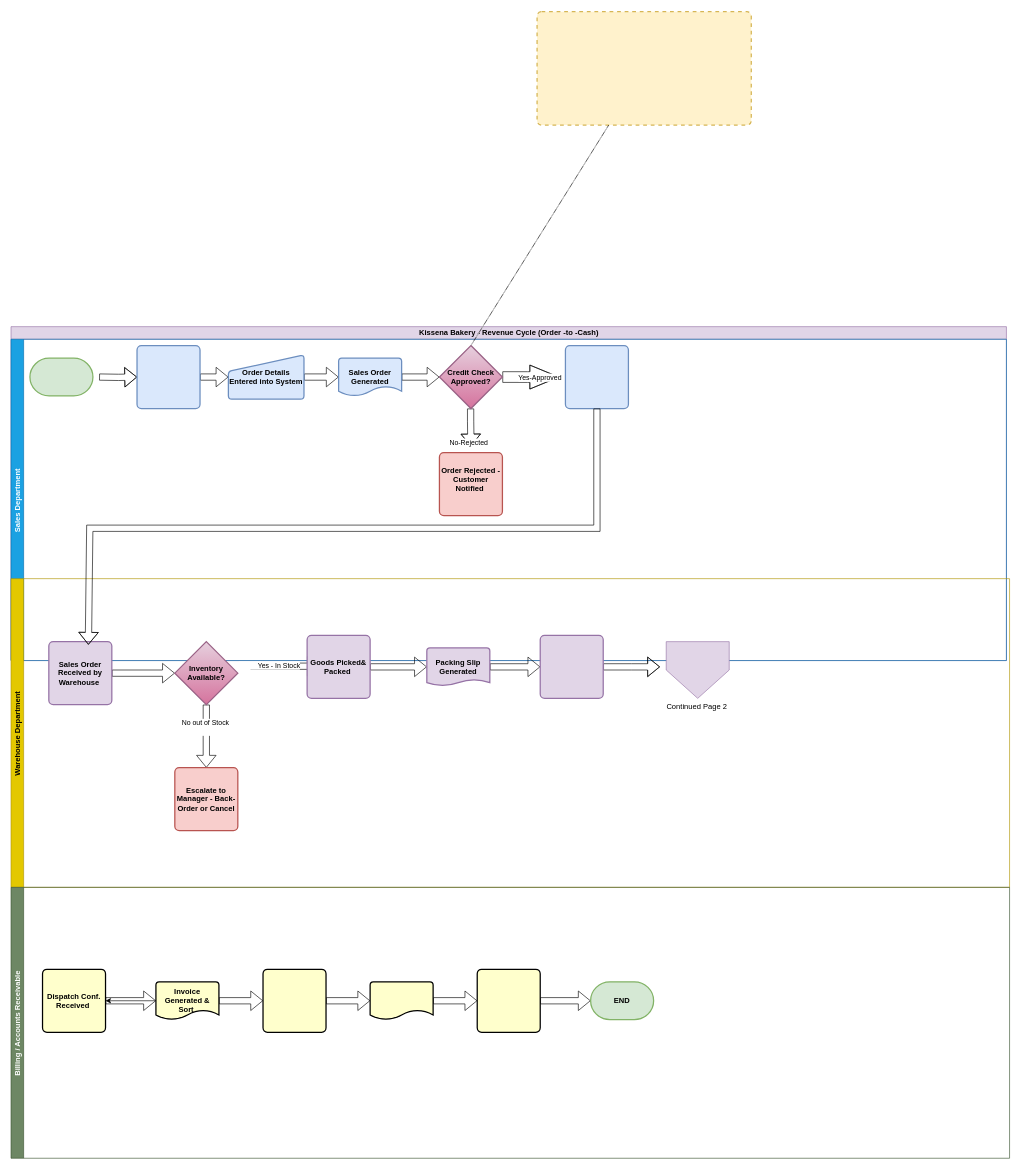
Some shapes in this 1021 by 1169 pixel diagram are drawn without their labels. Each missing label, with the centre of its shape:
"Cash Posted to Accounts Receivable" belongs at point 508,1000.
"Control Activity CA-01" belongs at point 644,68.
"Customer Place Order" belongs at point 168,377.
"Payment Received" belongs at point 294,1000.
"Remittance Advice Recorded" belongs at point 401,1000.
"Sales Order Authorized & Released to Warehouse" belongs at point 596,377.
"Shipping Authorization Verified" belongs at point 571,666.
"START" belongs at point 61,376.
